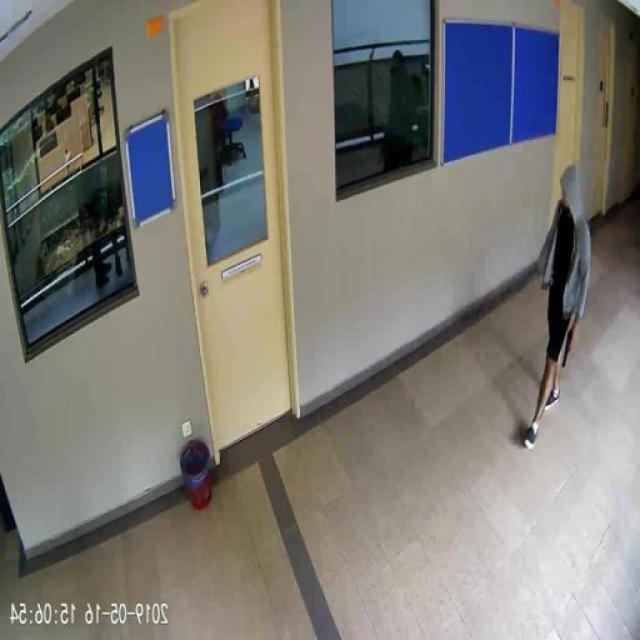pistol: (564, 327, 580, 368)
